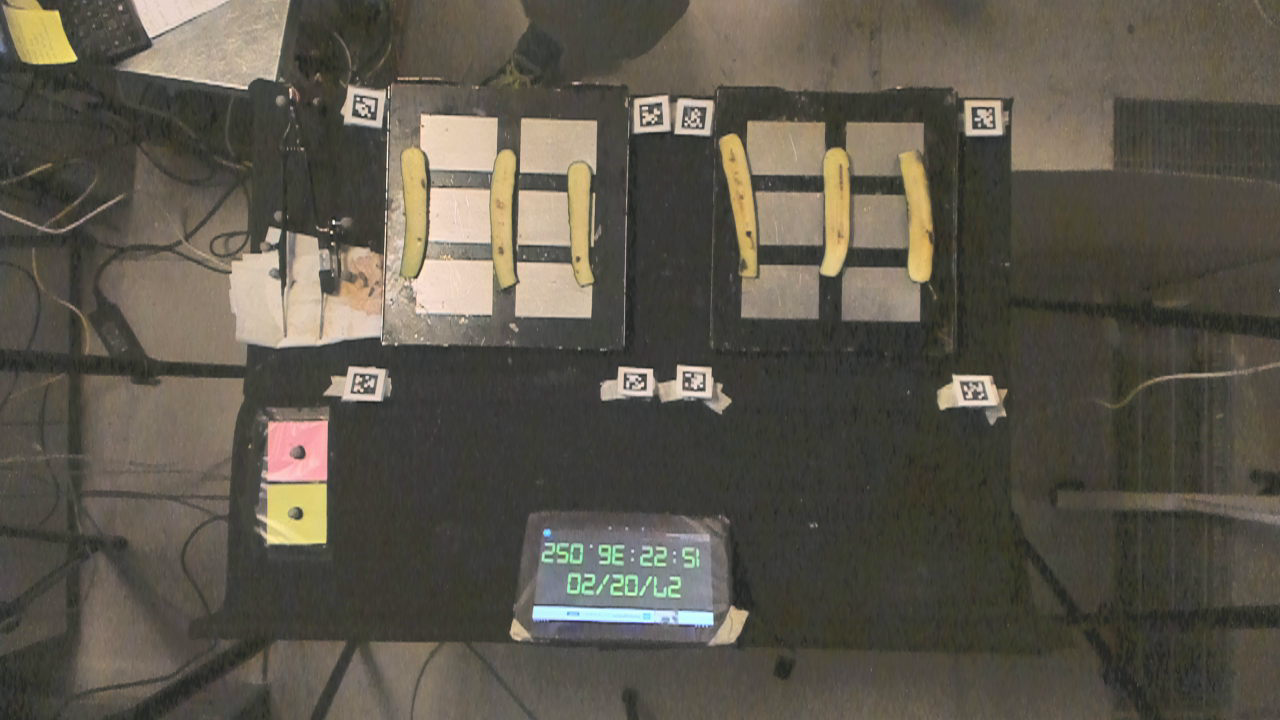marker: (269, 419, 328, 481)
zucchini: (720, 132, 768, 276), (892, 146, 940, 286), (563, 150, 603, 286), (492, 146, 525, 302), (823, 143, 855, 285), (401, 148, 433, 289)
